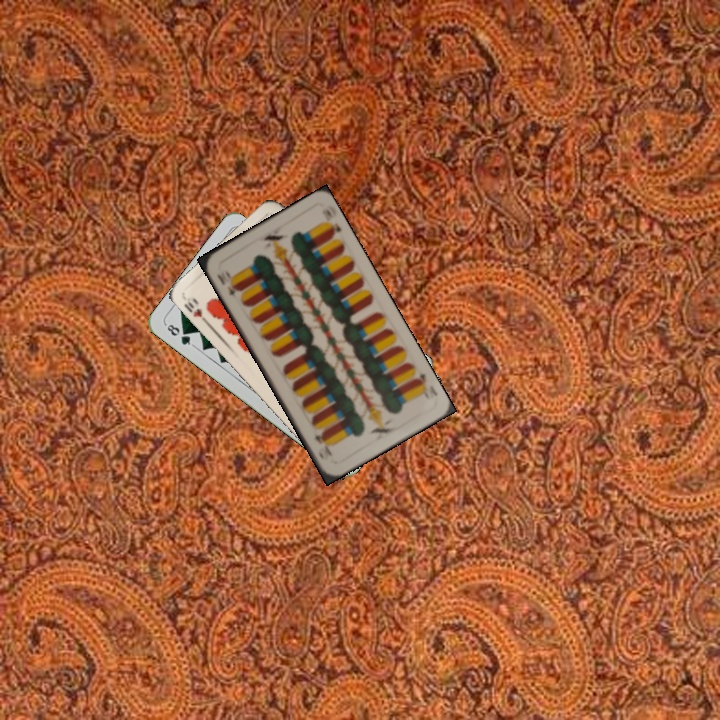E10: (410, 368, 440, 398), (213, 270, 242, 301)
G8: (161, 320, 196, 349)
H10: (180, 294, 211, 327)
